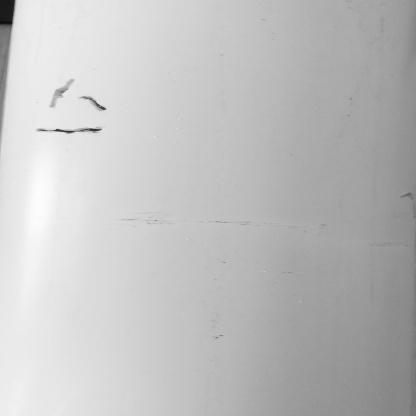sunshang: (41, 75, 115, 115), (22, 128, 119, 134)
